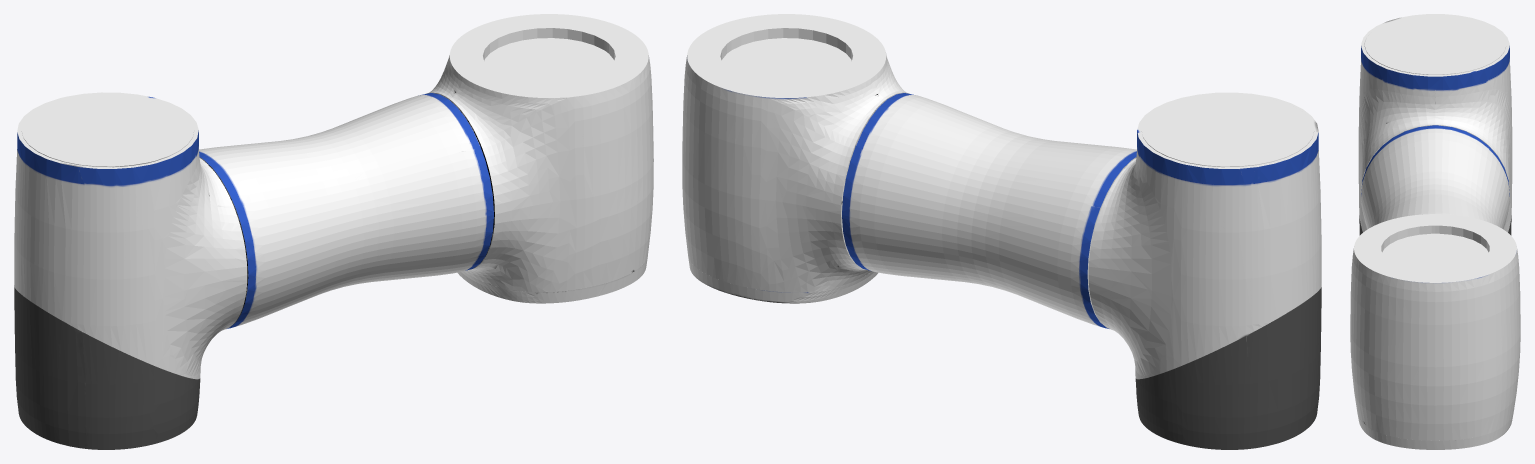
The picture shows the model from 3 angles, left to right: view 1: azimuth 30°, elevation 25°; view 2: azimuth 150°, elevation 25°; view 3: azimuth 270°, elevation 25°; orthographic projection. The views are drawn at different scales.
Parts seen in each view (by area): view 1: Link3; view 2: Link3; view 3: Link3.
Boxes of the visible parts, <box> form: Link3: <box>14,14,653,449</box>; Link3: <box>682,14,1321,449</box>; Link3: <box>1350,14,1520,449</box>.
Size of the model in its own units: 0.3194 by 0.094 by 0.1435.
1 material, 1 textured.
